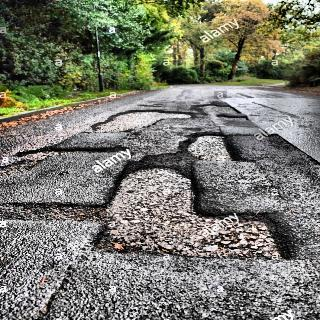pothole: (110, 156, 296, 274), (102, 109, 195, 132)
